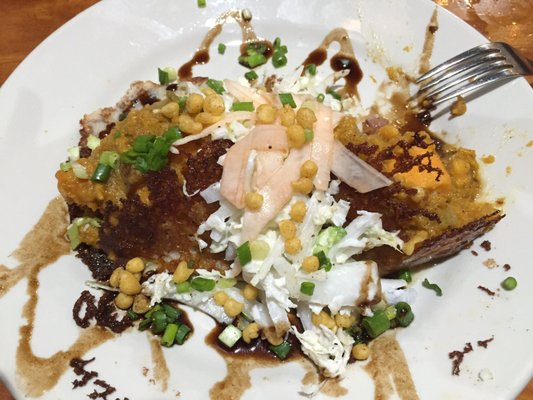burger: (411, 41, 533, 124)
